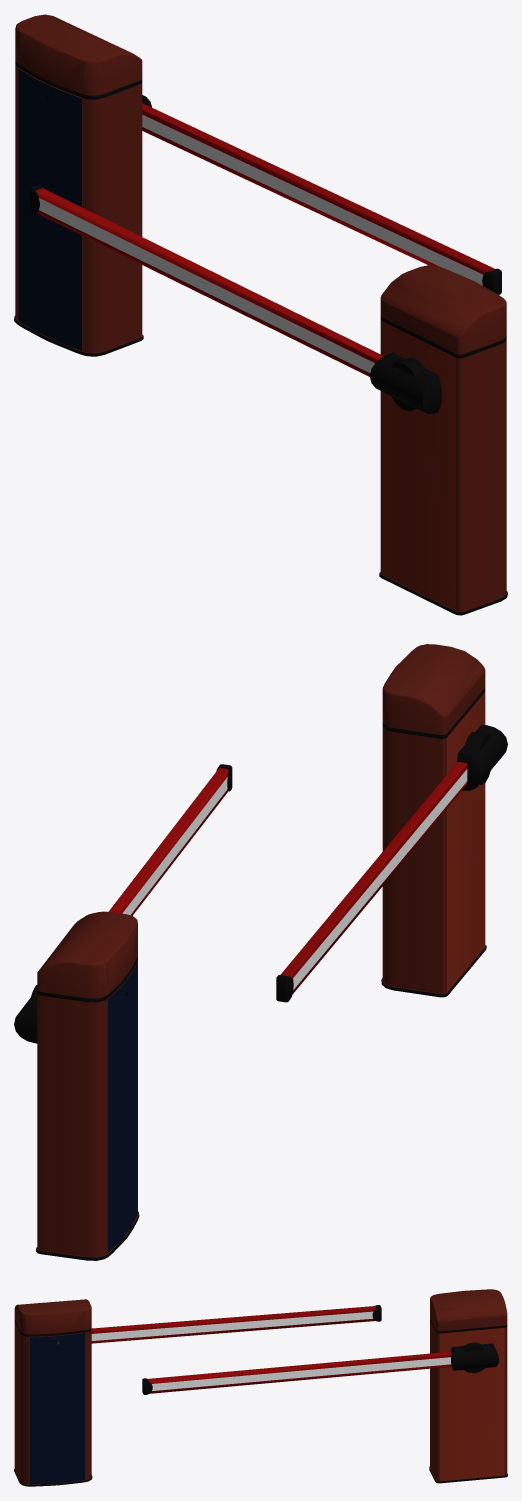
File: Шлагбаум BFT MiCHELANGELO синий.FBX
The picture shows the model from 3 angles, top to bottom: view 1: azimuth 30°, elevation 25°; view 2: azimuth 150°, elevation 25°; view 3: azimuth 270°, elevation 25°; orthographic projection. The views are drawn at different scales.
Parts seen in each view (by area): view 1: BFT MiCHELANGELO (×2); view 2: BFT MiCHELANGELO (×2); view 3: BFT MiCHELANGELO (×2).
Part boxes in pixels (x1=…): BFT MiCHELANGELO (×2): x1=14, y1=14, x2=507, y2=615; BFT MiCHELANGELO (×2): x1=14, y1=644, x2=507, y2=1260; BFT MiCHELANGELO (×2): x1=14, y1=1289, x2=507, y2=1486.
Size of the model in its own units: 1079 by 1127 by 2932.
